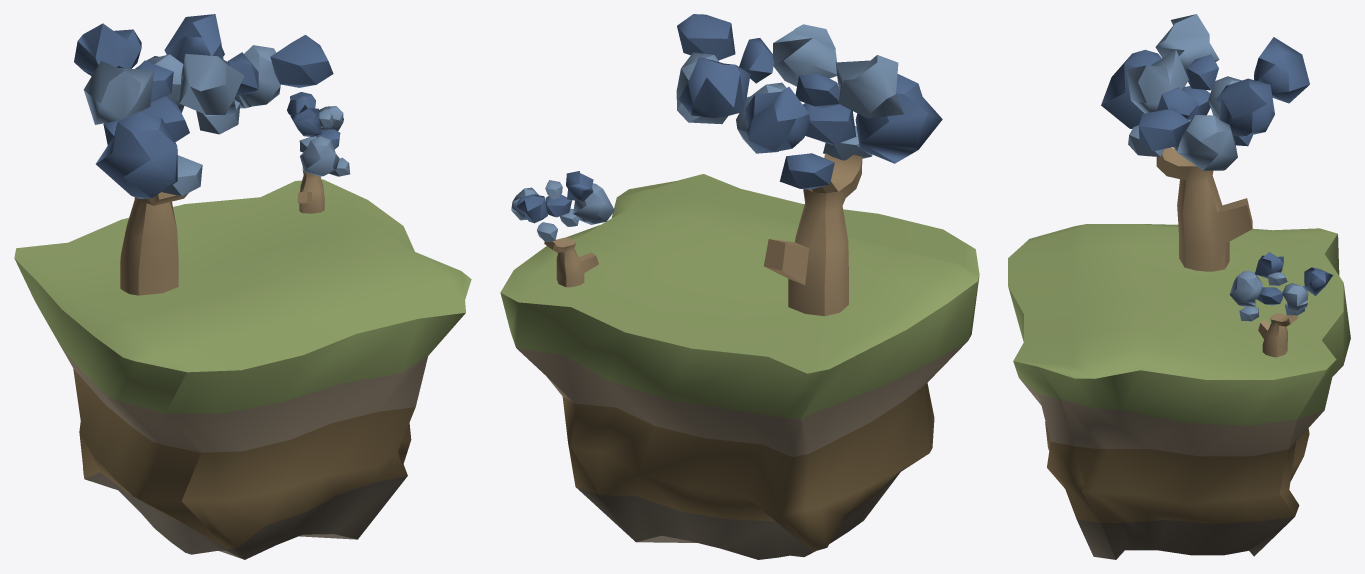
File: ground-blue.fbx
The picture shows the model from 3 angles, left to right: view 1: azimuth 30°, elevation 25°; view 2: azimuth 150°, elevation 25°; view 3: azimuth 270°, elevation 25°; orthographic projection. The views are drawn at different scales.
Parts seen in each view (by area): view 1: pCube10, pCube8, pCylinder32, pCylinder35, pCylinder40, pCylinder34, pCylinder44, pCylinder42, pCylinder41, polySurface68, pCylinder36, polySurface58 (+6 smaller); view 2: pCube10, pCube8, pCylinder32, pCylinder35, pCylinder34, pCylinder42, pCylinder40, pCylinder44, pCylinder36, pCylinder31, polySurface58, pCylinder37 (+7 smaller); view 3: pCube10, pCube8, pCylinder42, pCylinder41, pCylinder34, pCylinder40, pCylinder35, pCylinder32, pCylinder44, polySurface58, polySurface68, pCylinder37 (+7 smaller).
Part boxes in pixels (x1,y1,x2,y2): pCube10: (14, 179, 471, 559); pCube8: (120, 192, 188, 295); pCylinder32: (96, 111, 177, 198); pCylinder35: (83, 61, 153, 124); pCylinder40: (179, 54, 244, 114); pCylinder34: (74, 23, 141, 75); pCylinder44: (270, 35, 333, 87); pCylinder42: (164, 14, 224, 63); pCylinder41: (234, 45, 280, 108); polySurface68: (300, 136, 339, 176); pCylinder36: (141, 96, 189, 141); polySurface58: (297, 167, 324, 213); pCube10: (500, 174, 979, 559); pCube8: (764, 153, 862, 316); pCylinder32: (855, 74, 942, 163); pCylinder35: (835, 55, 903, 118); pCylinder34: (745, 87, 810, 153); pCylinder42: (678, 57, 750, 117); pCylinder40: (773, 24, 836, 86); pCylinder44: (677, 14, 735, 60); pCylinder36: (803, 103, 856, 144); pCylinder31: (779, 153, 834, 189); polySurface58: (544, 237, 598, 287); pCylinder37: (795, 74, 839, 107); pCube10: (1008, 224, 1350, 559); pCube8: (1156, 147, 1252, 271); pCylinder42: (1216, 78, 1274, 136); pCylinder41: (1177, 115, 1237, 170); pCylinder34: (1254, 37, 1309, 103); pCylinder40: (1126, 50, 1188, 113); pCylinder35: (1155, 14, 1219, 72); pCylinder32: (1101, 49, 1161, 128); pCylinder44: (1138, 108, 1189, 151); polySurface58: (1258, 313, 1297, 357); polySurface68: (1229, 270, 1262, 307); pCylinder37: (1186, 54, 1218, 90).
Bounding box in the file's own units: 8.19 × 10.82 × 7.44.
